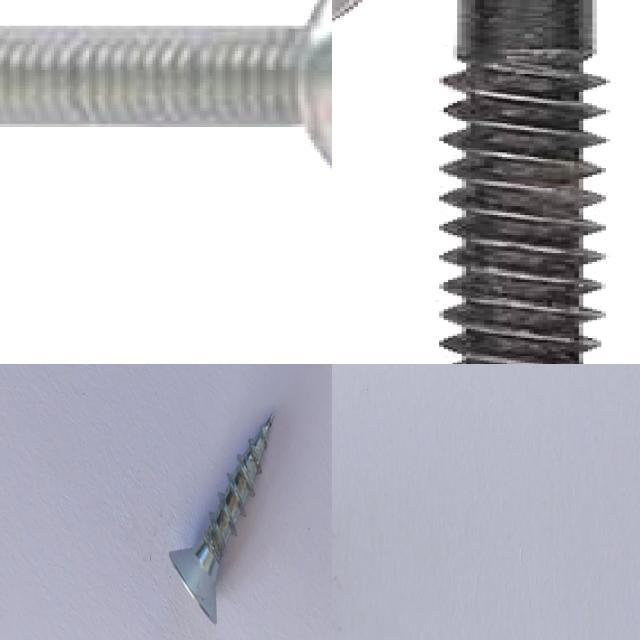Screw: (444, 0, 606, 364), (0, 0, 332, 167), (169, 413, 273, 624)
